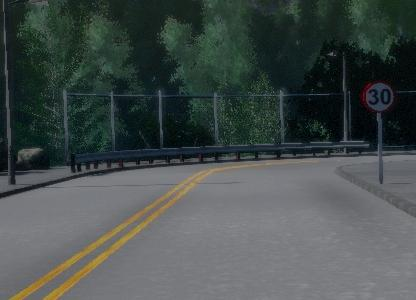Speed_30: (360, 77, 396, 114)
